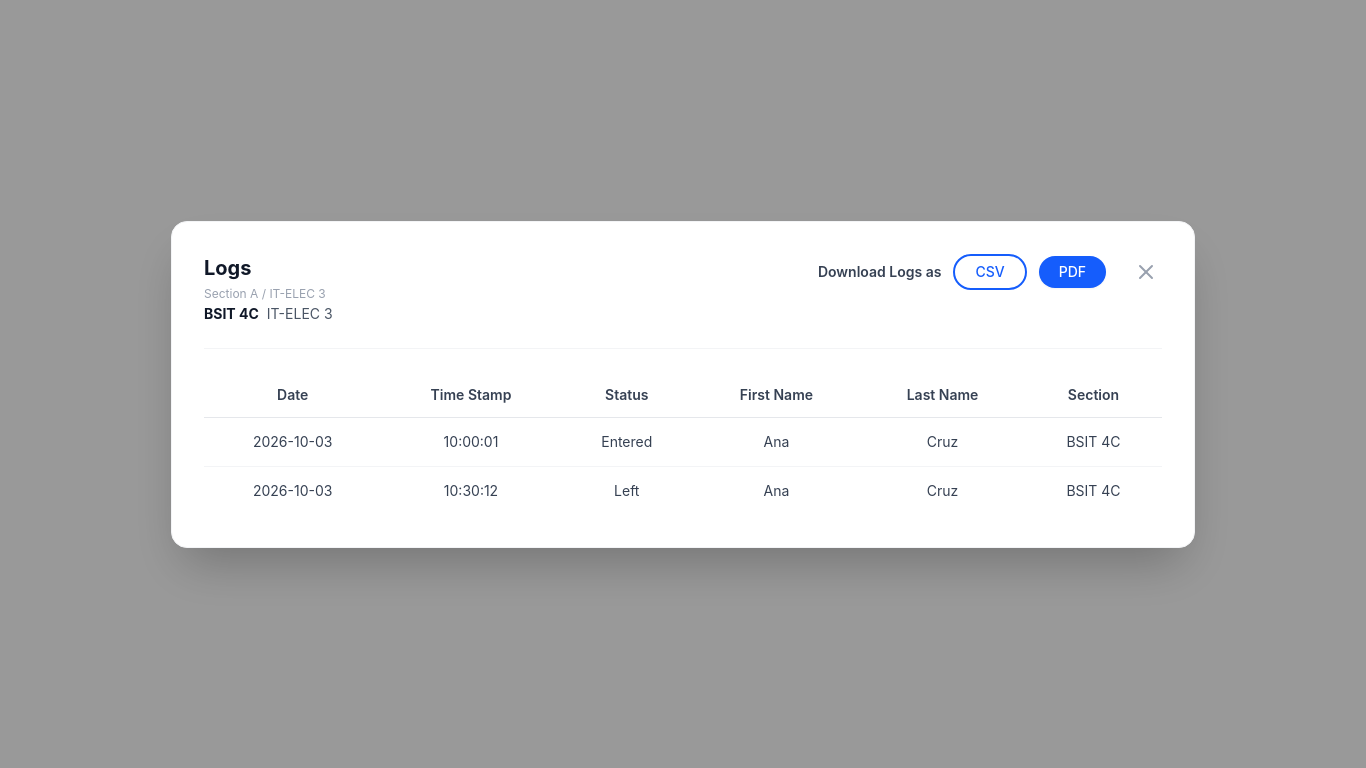
Test: Logs modal › download state and errors › shows only the status when the error body cannot be read
Click the button "CSV" at (990, 272), box [953, 254, 1027, 290]
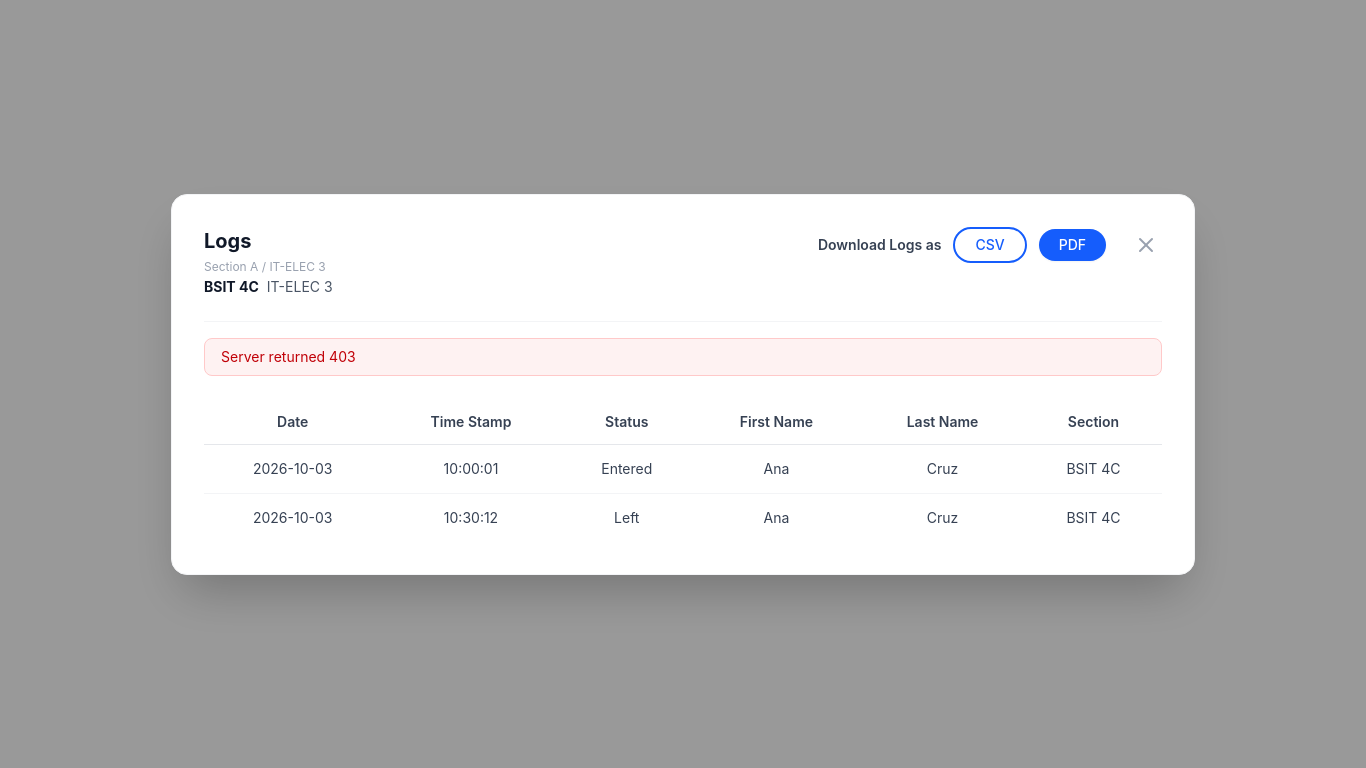
Now the text "Server returned 403" is shown, box [204, 338, 1162, 376]
